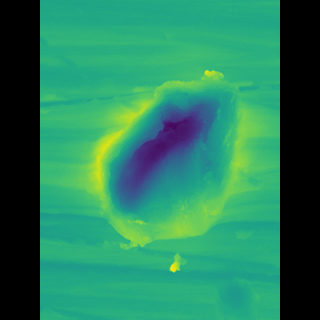Loch: (95, 58, 228, 255)
